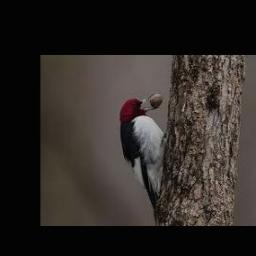Woodpecker: (119, 93, 166, 223)
